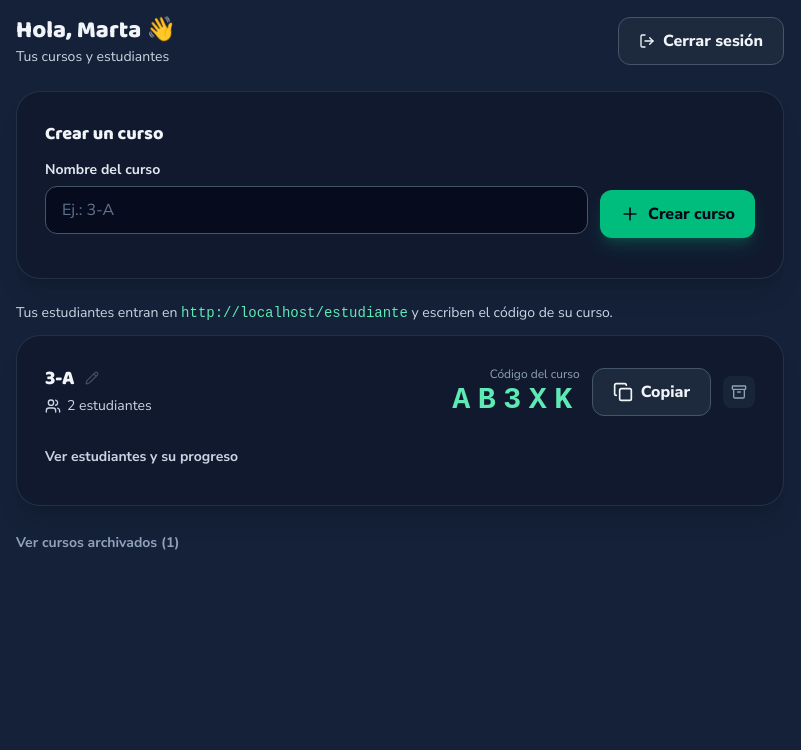
it: TeacherPanel con datos › al abrir el curso muestra XP, niveles y % de aciertos; marca ⚠️ a quien nunca jugó
Expected: the text "Tus cursos y estudiantes" is shown, [16,47,176,67]
Click the heading "Ver estudiantes y su progreso" at (142, 456), box [45,447,238,466]
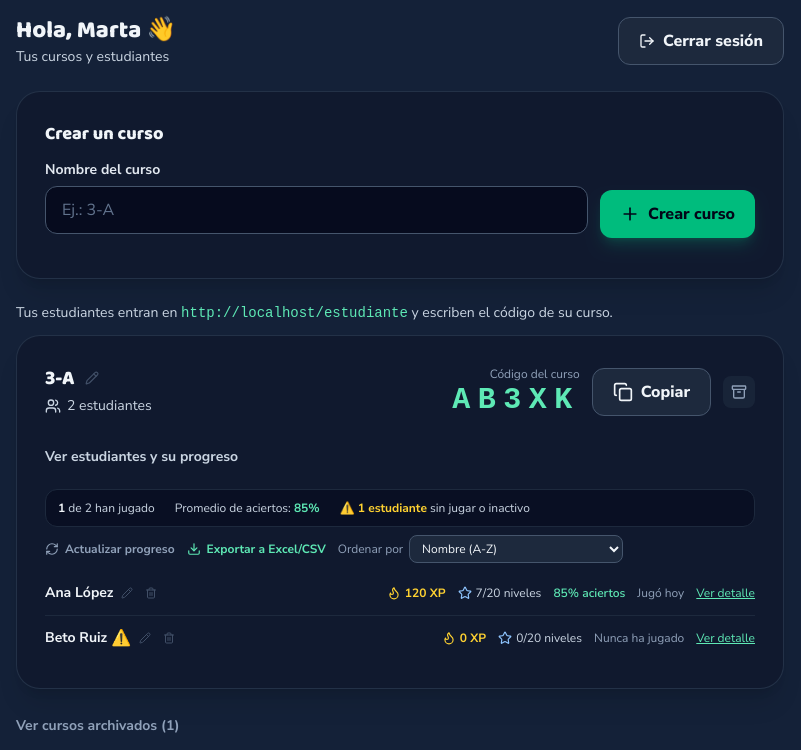
Expected: the text "120 XP" is shown, [387,585,446,601]
Expected: the text "7/20 niveles" is shown, [458,585,541,601]
Expected: the text "85% aciertos" is shown, [553,585,625,601]
